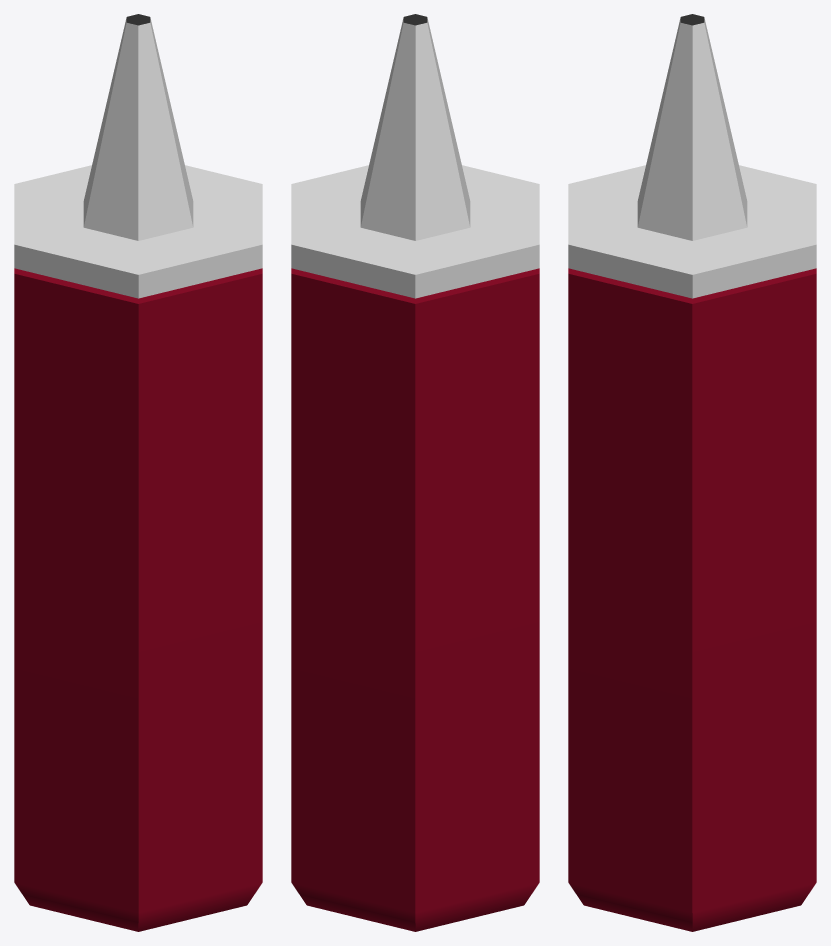
The model's file is CondimentBottle.fbx.
The picture shows the model from 3 angles, left to right: view 1: azimuth 30°, elevation 25°; view 2: azimuth 150°, elevation 25°; view 3: azimuth 270°, elevation 25°; orthographic projection.
Parts seen in each view (by area): view 1: CondimentBottle; view 2: CondimentBottle; view 3: CondimentBottle.
Boxes of the visible parts, <box> form: CondimentBottle: <box>14,14,262,931</box>; CondimentBottle: <box>291,14,539,931</box>; CondimentBottle: <box>568,14,816,931</box>.
Size of the model in its own units: 8.68 by 28.7 by 7.52.
